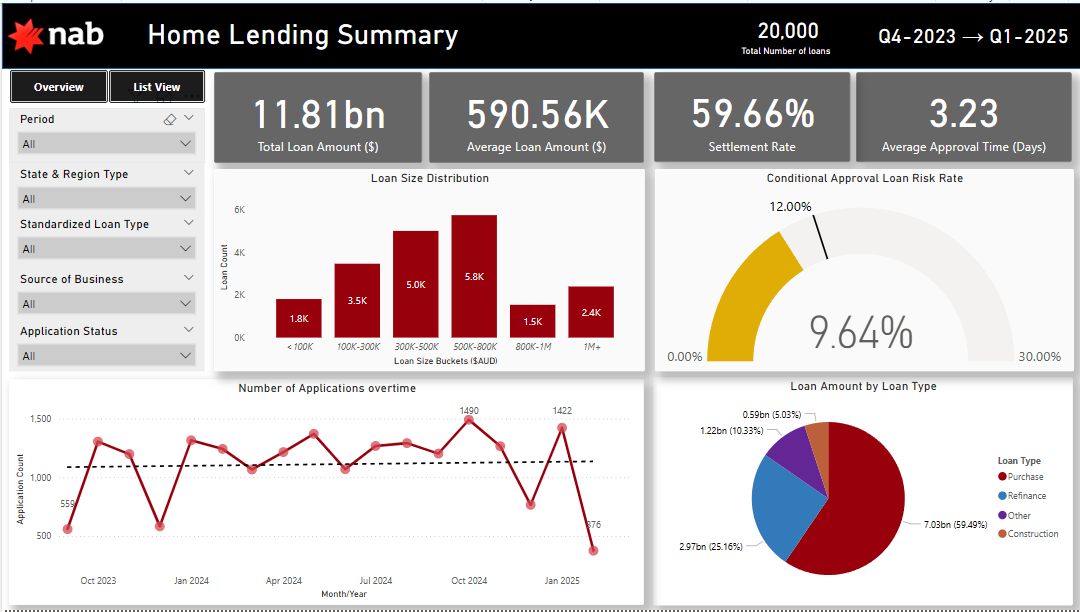

Layout of this report page (visuals, bound fields, positions):
{"tool":"powerbi","page":{"name":"Overview","canvas":[1280,720],"ordinal":0},"visuals":[{"type":"slicer","fields":{"Values":["interview_sample-[number redacted].customer_residential_state","interview_sample-[number redacted].cust_region_type"]},"box":[8.9,190,232.2,61.1],"z":0},{"type":"card","fields":{"Values":["Sum(interview_sample-[number redacted].loan_amount)"]},"box":[251,82,247,108],"z":1000},{"type":"pieChart","title":"Loan Amount by Loan Type ","fields":{"Category":["interview_sample-[number redacted].Standardized Loan Type"],"Y":["Sum(interview_sample-[number redacted].loan_amount)"]},"box":[772.5,443.4,497.9,271.4],"z":2000},{"type":"card","fields":{"Values":["Avg(interview_sample-[number redacted].Time_to_Approval_Days)"]},"box":[1013.6,81.8,256.4,107.3],"z":3000},{"type":"lineChart","title":"Number of Applications overtime","fields":{"Y":["CountNonNull(interview_sample-[number redacted].application_submission_id)"],"Category":["interview_sample-[number redacted].application_creation_date.Variation.Date Hierarchy.Year","interview_sample-[number redacted].application_creation_date.Variation.Date Hierarchy.Quarter","interview_sample-[number redacted].application_creation_date.Variation.Date Hierarchy.Month"]},"box":[8.5,446.6,753.3,268.2],"z":4000},{"type":"card","fields":{"Values":["Sum(interview_sample-[number redacted].loan_amount)"]},"box":[506.4,82.3,255.4,107.9],"z":5000},{"type":"card","fields":{"Values":["interview_sample-[number redacted].Settlement Rate"]},"box":[773.6,82.3,232.9,106.8],"z":6000},{"type":"slicer","fields":{"Values":["interview_sample-[number redacted].source_of_business"]},"box":[8.9,314.4,232.2,62.2],"z":7000},{"type":"shape","box":[0,0,1280,78],"z":8000},{"type":"image","box":[0,0,131,78],"z":9000},{"type":"textbox","box":[1034,19,246,44],"z":10000},{"type":"textbox","box":[167.8,13.3,394.4,50],"z":11000},{"type":"textbox","box":[872,41,154,31],"z":12000},{"type":"card","fields":{"Values":["Min(interview_sample-[number redacted].application_submission_id)"]},"box":[887.9,13.4,90.1,37.4],"z":13000},{"type":"clusteredColumnChart","title":"Loan Size Distribution","fields":{"Y":["CountNonNull(interview_sample-[number redacted].application_submission_id)"],"Category":["interview_sample-[number redacted].Loan Amount RangeBucket"]},"box":[251.3,197.3,510.7,240],"z":14000},{"type":"slicer","fields":{"Values":["interview_sample-[number redacted].Standardized Loan Type"]},"box":[8.9,248.9,232.2,65.6],"z":15000},{"type":"slicer","fields":{"Values":["interview_sample-[number redacted].application_creation_date.Variation.Date Hierarchy.Year","interview_sample-[number redacted].application_creation_date.Variation.Date Hierarchy.Quarter"]},"box":[8.9,124.4,232.2,65.6],"z":16000},{"type":"slicer","fields":{"Values":["interview_sample-[number redacted].latest_system_status"]},"box":[8.9,376.6,232.3,61.3],"z":17000},{"type":"gauge","title":"Conditional Approval Loan Risk Rate","fields":{"Y":["Sum(interview_sample-[number redacted].Risk Loan %)"]},"box":[774.7,197.3,496.7,240],"z":18000},{"type":"actionButton","box":[127.4,80,113.7,38.9],"z":19000},{"type":"actionButton","box":[9,80,116,39],"z":20000}]}

Visuals, with their boxes in screenshot pixels (x1, y1, x2, y2), scaled from the page's 1280x720 canvas onto the 1080x612 screenshot:
slicer - interview_sample-[number redacted].customer_residential_state x interview_sample-[number redacted].cust_region_type: <bbox>8, 162, 203, 213</bbox>
card - Sum(interview_sample-[number redacted].loan_amount): <bbox>212, 70, 420, 162</bbox>
"Loan Amount by Loan Type " pieChart: <bbox>652, 377, 1072, 608</bbox>
card - Avg(interview_sample-[number redacted].Time_to_Approval_Days): <bbox>855, 70, 1072, 161</bbox>
"Number of Applications overtime" lineChart: <bbox>7, 380, 643, 608</bbox>
card - Sum(interview_sample-[number redacted].loan_amount): <bbox>427, 70, 643, 162</bbox>
card - interview_sample-[number redacted].Settlement Rate: <bbox>653, 70, 849, 161</bbox>
slicer - interview_sample-[number redacted].source_of_business: <bbox>8, 267, 203, 320</bbox>
shape: <bbox>0, 0, 1079, 66</bbox>
image: <bbox>0, 0, 111, 66</bbox>
textbox: <bbox>872, 16, 1079, 54</bbox>
textbox: <bbox>142, 11, 474, 54</bbox>
textbox: <bbox>736, 35, 866, 61</bbox>
card - Min(interview_sample-[number redacted].application_submission_id): <bbox>749, 11, 825, 43</bbox>
"Loan Size Distribution" clusteredColumnChart: <bbox>212, 168, 643, 372</bbox>
slicer - interview_sample-[number redacted].Standardized Loan Type: <bbox>8, 212, 203, 267</bbox>
slicer - interview_sample-[number redacted].application_creation_date.Variation.Date Hierarchy.Year x interview_sample-[number redacted].application_creation_date.Variation.Date Hierarchy.Quarter: <bbox>8, 106, 203, 162</bbox>
slicer - interview_sample-[number redacted].latest_system_status: <bbox>8, 320, 204, 372</bbox>
"Conditional Approval Loan Risk Rate" gauge: <bbox>654, 168, 1073, 372</bbox>
actionButton: <bbox>107, 68, 203, 101</bbox>
actionButton: <bbox>8, 68, 105, 101</bbox>
